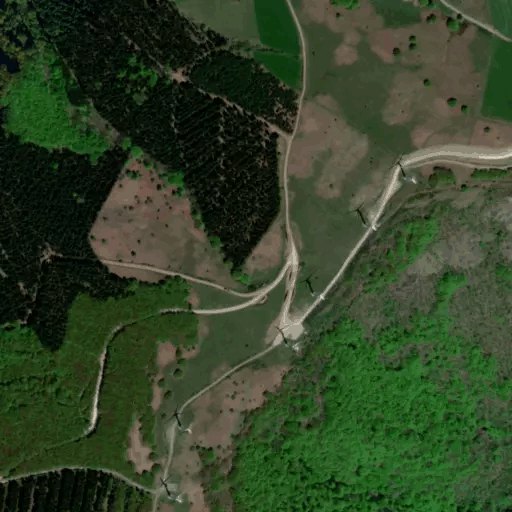wt: (157, 473, 190, 506), (391, 151, 418, 186), (300, 275, 328, 303), (170, 406, 195, 437), (353, 207, 381, 233), (274, 324, 298, 351)
